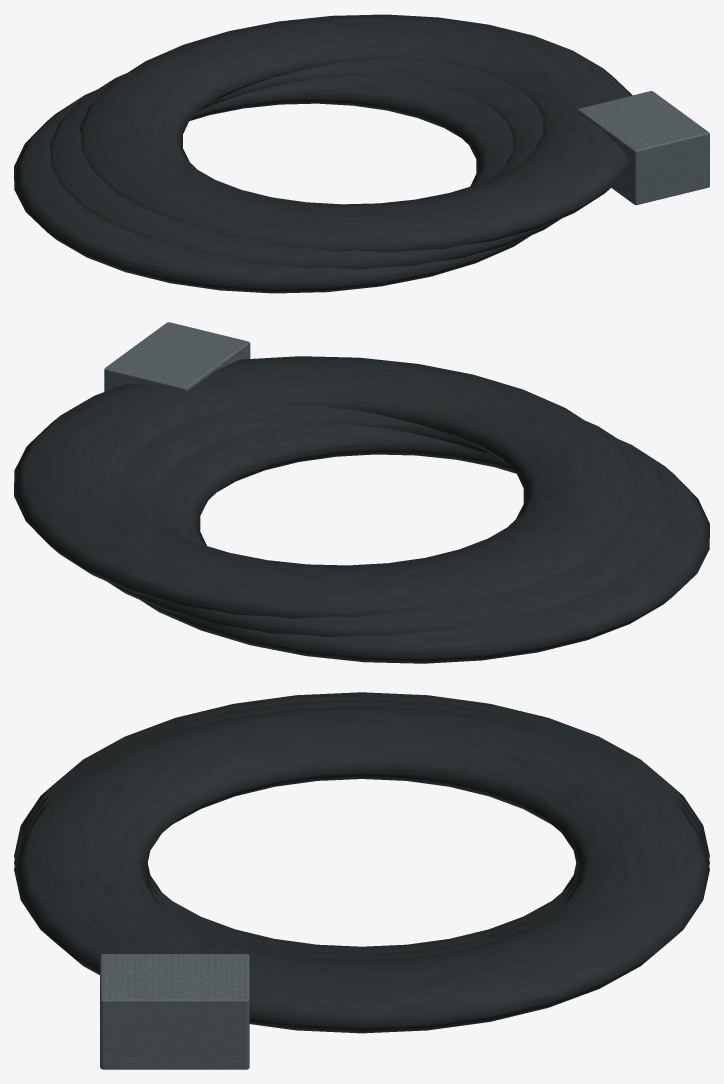
The model's file is lead.glb.
3 renders of one model, top to bottom at view 1: azimuth 30°, elevation 25°; view 2: azimuth 150°, elevation 25°; view 3: azimuth 270°, elevation 25°, orthographic. The views are drawn at different scales.
Parts seen in each view (by area): view 1: loop (×3), plug; view 2: loop (×3), plug; view 3: loop (×3), plug.
Part boxes in pixels (x1,y1,x2,y2): loop (×3): (14, 14, 632, 293); plug: (577, 91, 709, 205); loop (×3): (14, 356, 709, 663); plug: (104, 322, 250, 391); loop (×3): (14, 692, 709, 1033); plug: (100, 954, 249, 1069).
Size of the model in its own units: 0.3226 by 0.0301 by 0.2697.
Materials: 2 (2 with a texture image).
